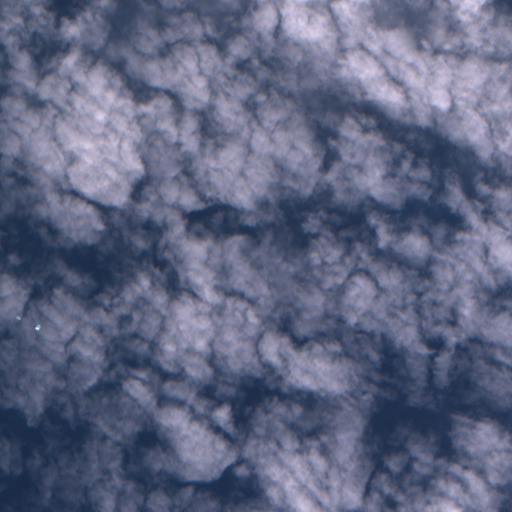Iceberg: (35, 325, 40, 330), (17, 317, 20, 319)
